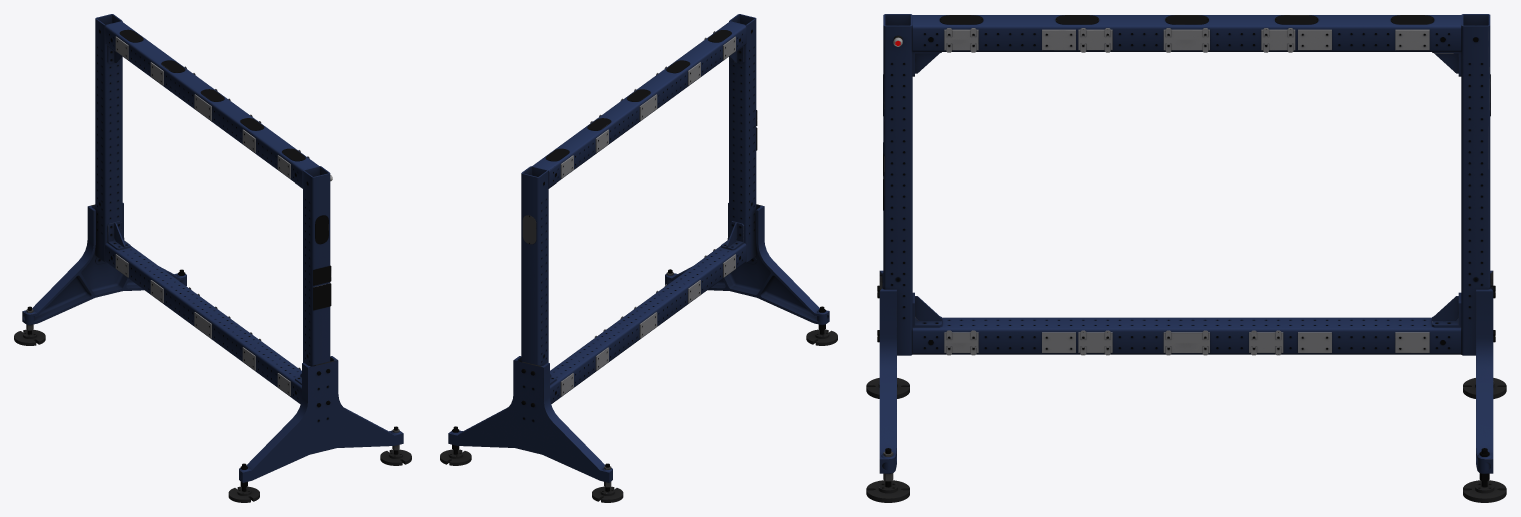
3 renders of one model, left to right at view 1: azimuth 30°, elevation 25°; view 2: azimuth 150°, elevation 25°; view 3: azimuth 270°, elevation 25°, orthographic. The views are drawn at different scales.
Visible parts, largest first — view 1: Base02, Base01, Base00; view 2: Base02, Base00, Base01; view 3: Base02, Base01, Base00.
Boxes of the visible parts, x1,y1,x2,y2 form: Base02: (95, 14, 331, 404); Base01: (228, 356, 411, 502); Base00: (14, 203, 186, 345); Base02: (521, 14, 757, 403); Base00: (440, 356, 623, 502); Base01: (665, 203, 837, 345); Base02: (883, 14, 1490, 355); Base01: (866, 270, 909, 502); Base00: (1463, 270, 1506, 502).
Size of the model in its own units: 1180 by 2625 by 1912.
